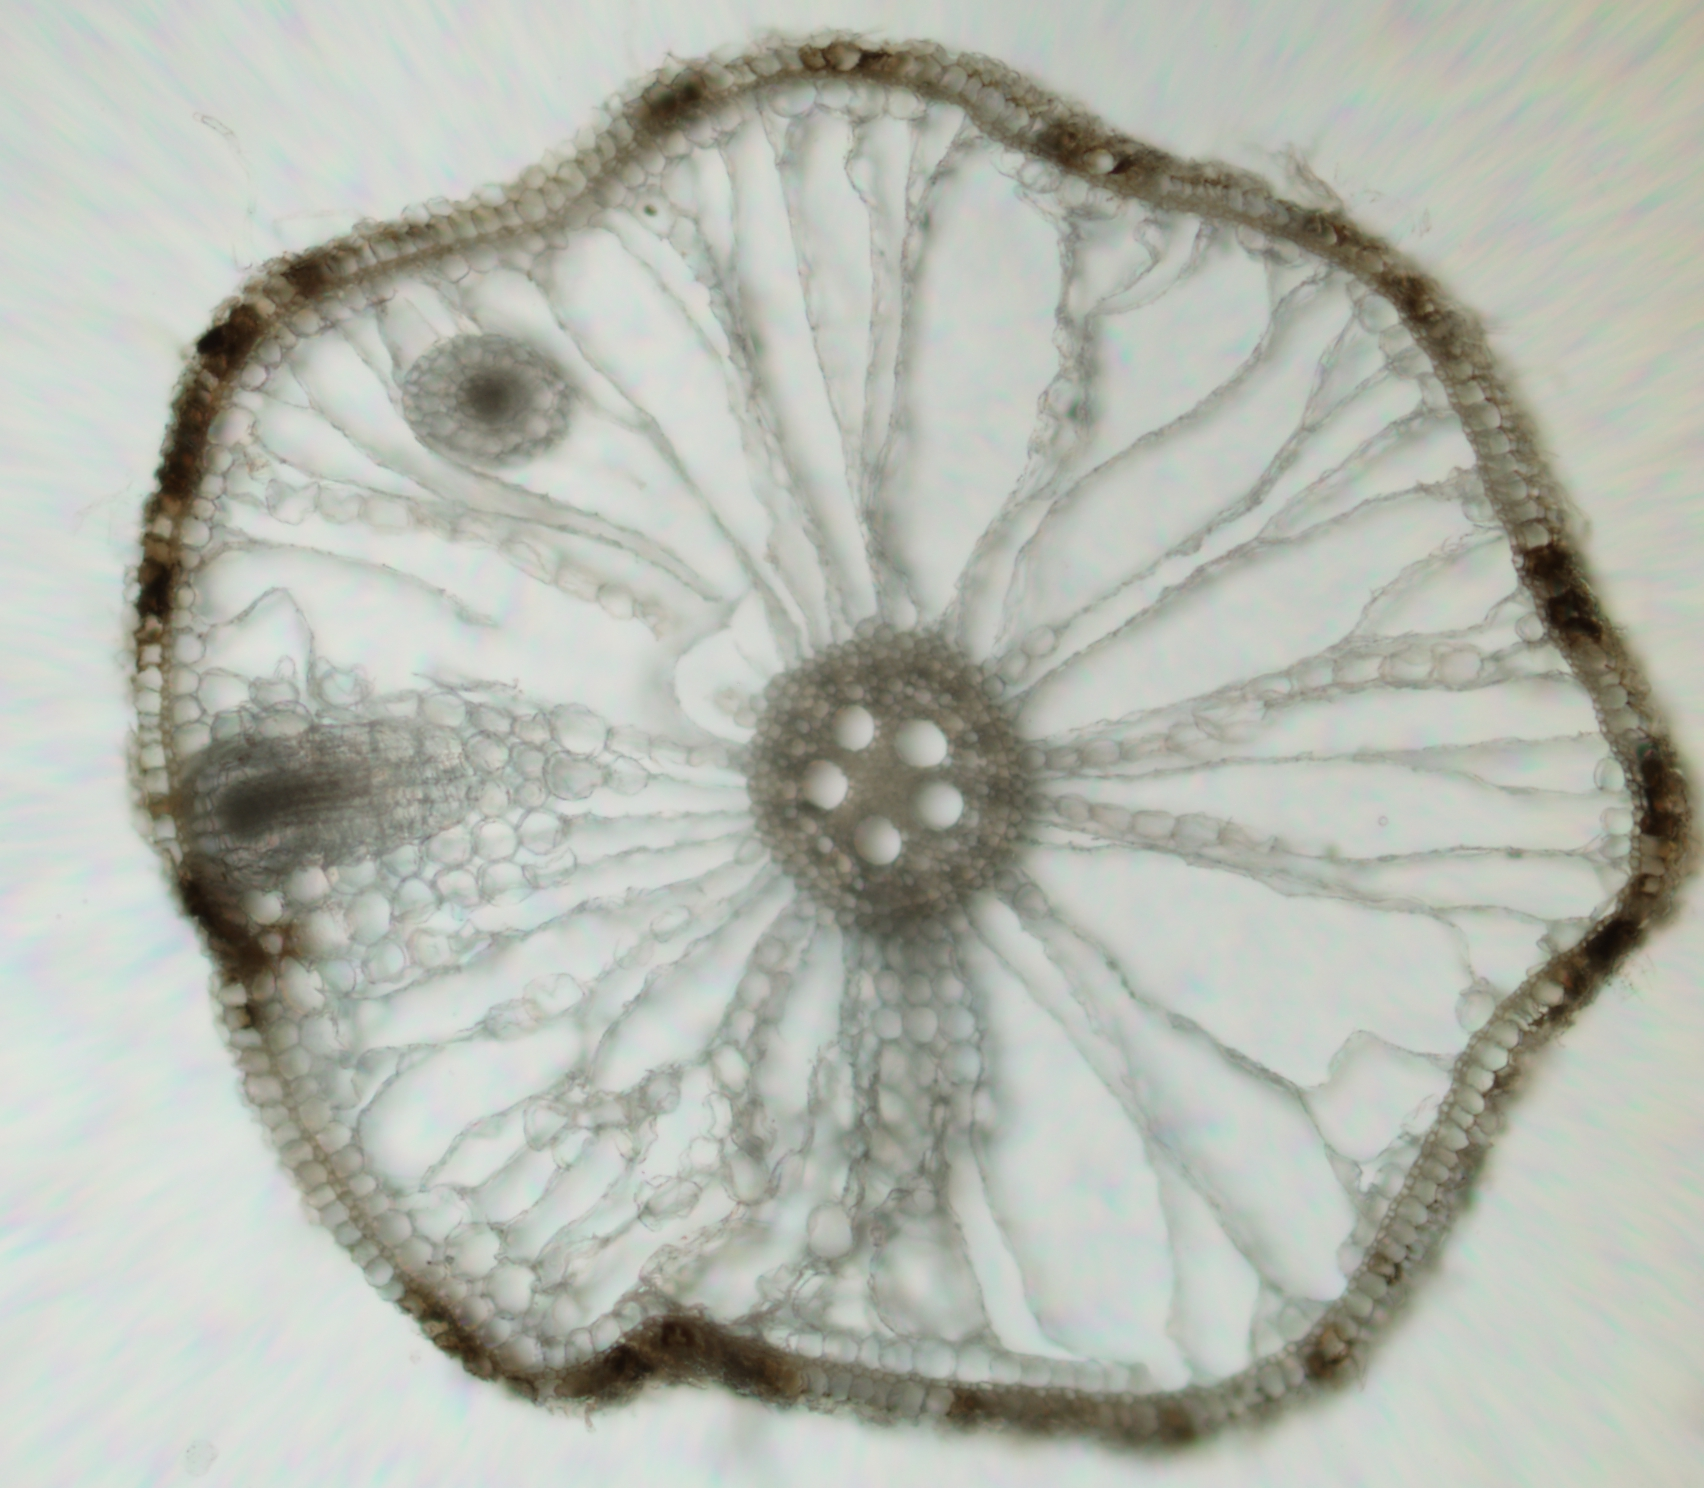lm: (911, 778, 964, 832), (893, 717, 948, 766), (851, 816, 903, 865), (798, 758, 848, 808), (829, 704, 874, 751)
